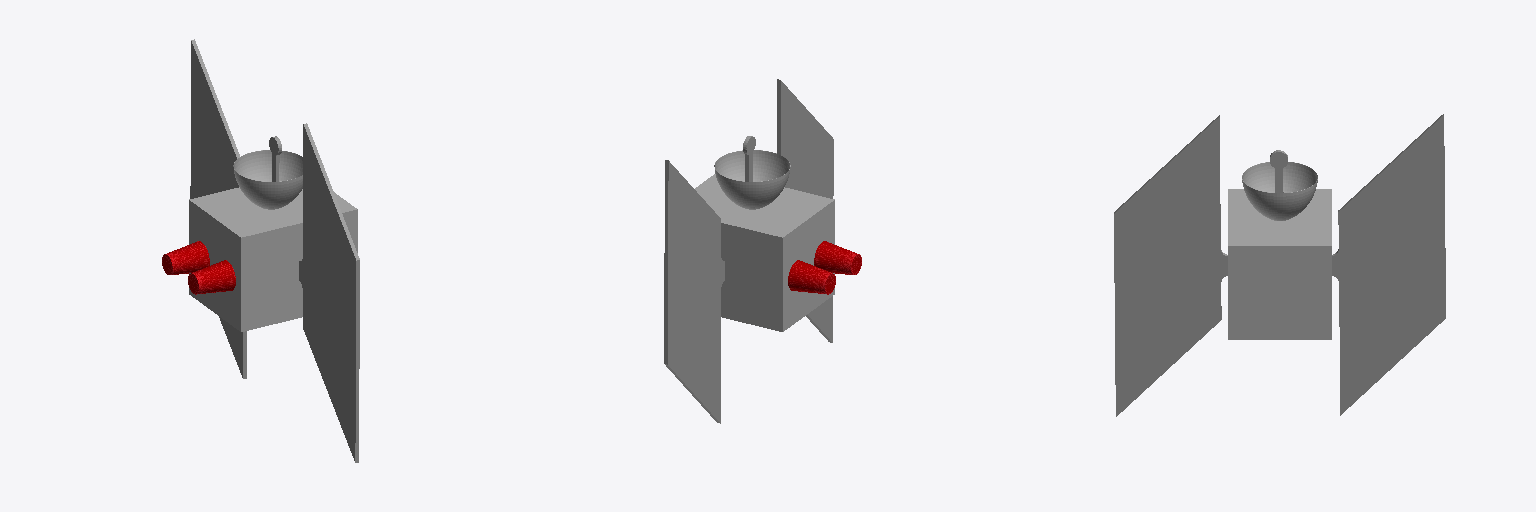
The picture shows the model from 3 angles: view 1: azimuth 30°, elevation 25°; view 2: azimuth 150°, elevation 25°; view 3: azimuth 270°, elevation 25°; orthographic projection.
Parts seen in each view (by area): view 1: Body_1_geo_0.002, Body_1.001_geo_1.002, Body_1.002_geo_2.002, Body_1.004_geo_3.002, Body_1.003_geo_3.002; view 2: Body_1_geo_0.002, Body_1.001_geo_1.002, Body_1.002_geo_2.002, Body_1.003_geo_3.002, Body_1.004_geo_3.002; view 3: Body_1_geo_0.002, Body_1.001_geo_1.002, Body_1.002_geo_2.002.
Boxes of the visible parts, <box> form: Body_1_geo_0.002: <box>190,39,359,462</box>; Body_1.001_geo_1.002: <box>189,187,357,331</box>; Body_1.002_geo_2.002: <box>233,150,302,209</box>; Body_1.004_geo_3.002: <box>188,260,235,294</box>; Body_1.003_geo_3.002: <box>162,241,209,274</box>; Body_1_geo_0.002: <box>664,79,833,423</box>; Body_1.001_geo_1.002: <box>695,174,834,331</box>; Body_1.002_geo_2.002: <box>714,150,790,209</box>; Body_1.003_geo_3.002: <box>788,260,835,294</box>; Body_1.004_geo_3.002: <box>814,241,861,274</box>; Body_1_geo_0.002: <box>1114,114,1445,416</box>; Body_1.001_geo_1.002: <box>1228,189,1331,339</box>; Body_1.002_geo_2.002: <box>1242,162,1317,220</box>.
Bounding box in the file's own units: 0.5271 × 1.01 × 1.
3 materials, 1 textured.